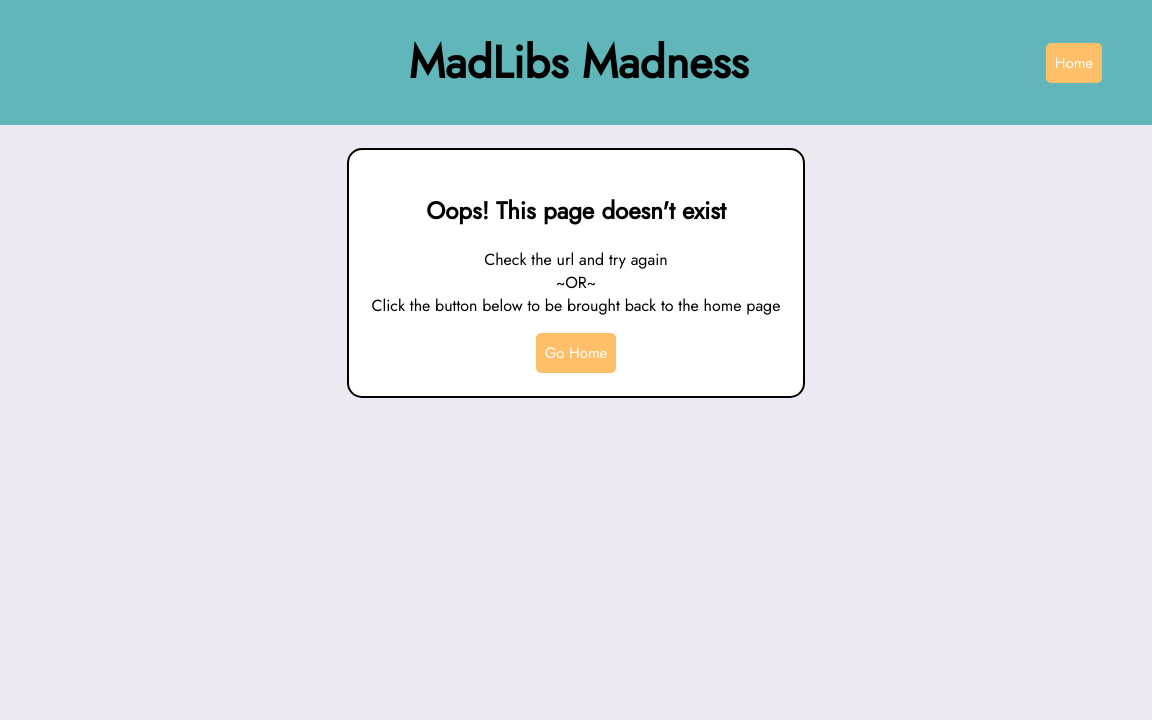
Test: Page not found view › should allow user to navigate back to home page
This screenshot has width=1152, height=720.
Click the button with class "go-home-btn": click(577, 353) top-left (536, 333), bottom-right (617, 373)
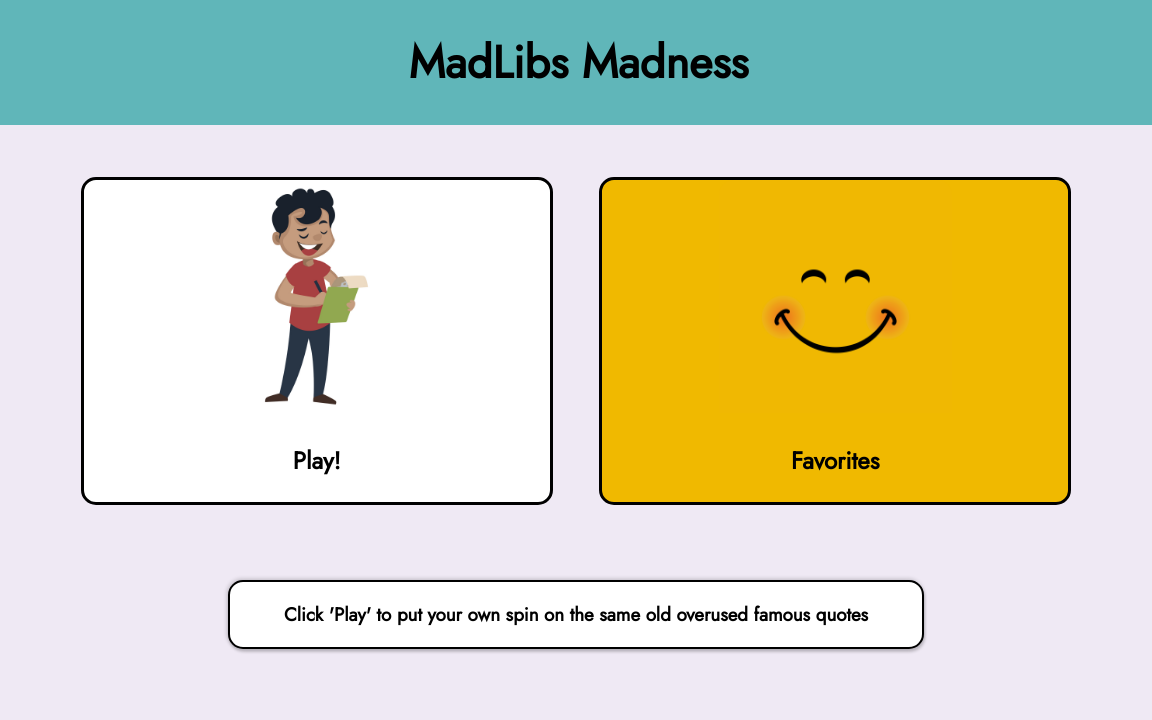
Expected: the element with class "home-page-options" is shown, top-left (58, 125), bottom-right (1095, 557)
